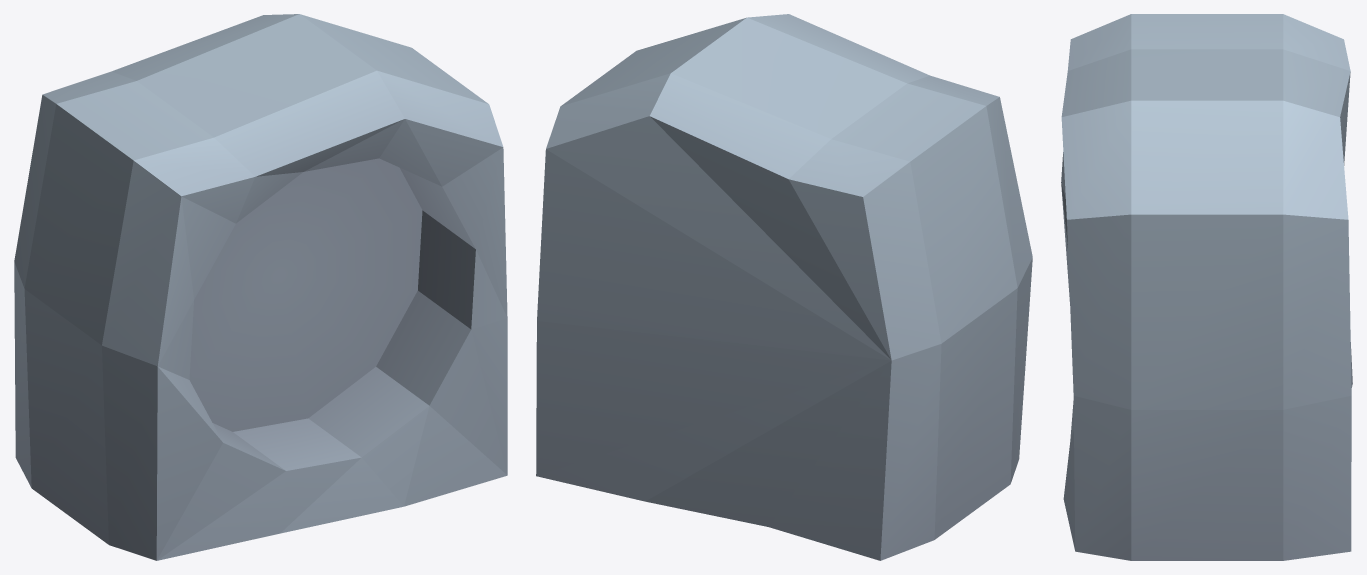
Rendered from ice.glb.
3 renders of one model, left to right at view 1: azimuth 30°, elevation 25°; view 2: azimuth 150°, elevation 25°; view 3: azimuth 270°, elevation 25°, orthographic.
Visible parts, largest first — view 1: fx.ice.mesh; view 2: fx.ice.mesh; view 3: fx.ice.mesh.
Boxes of the visible parts, x1,y1,x2,y2 form: fx.ice.mesh: (14,14,507,560); fx.ice.mesh: (536,14,1032,560); fx.ice.mesh: (1061,14,1352,560).
Size of the model in its own units: 0.3259 by 0.321 by 0.2112.
